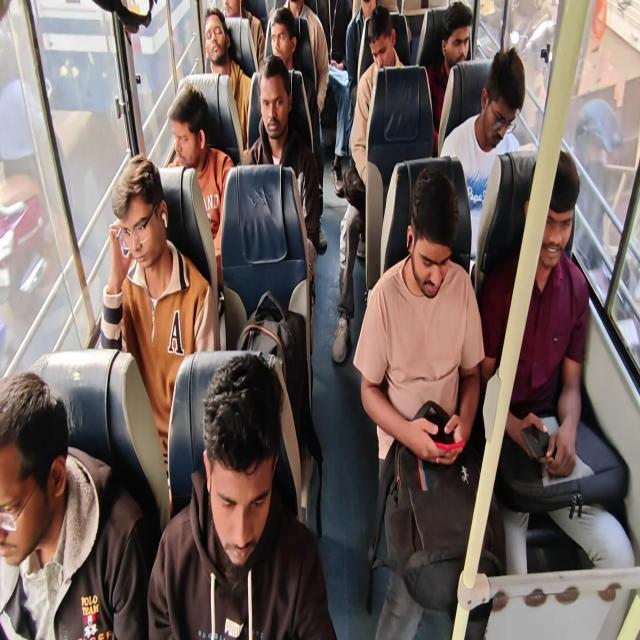person: (352, 166, 506, 638), (477, 147, 635, 575), (147, 351, 337, 638), (99, 154, 219, 508), (0, 371, 151, 638), (331, 6, 407, 363), (439, 47, 526, 267), (242, 54, 321, 293), (267, 7, 327, 251), (166, 84, 234, 286), (567, 98, 623, 270), (331, 0, 377, 197), (202, 5, 252, 150), (424, 1, 472, 152), (267, 7, 317, 137), (346, 0, 378, 114), (222, 0, 266, 75)
